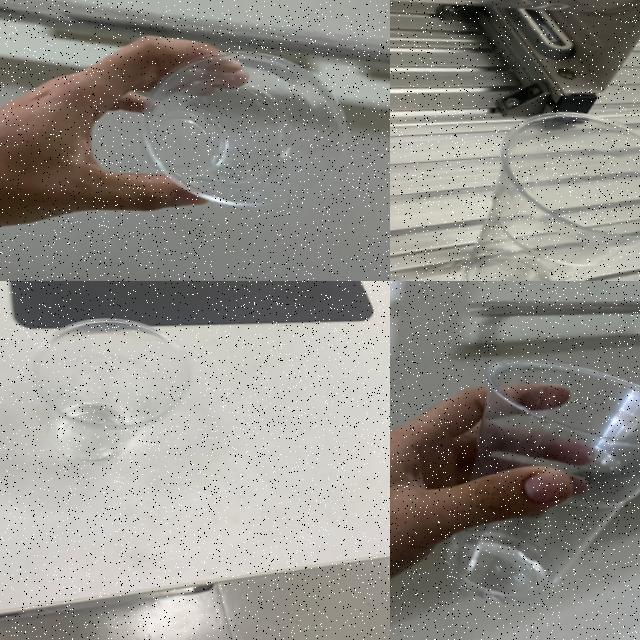glass: (413, 335, 640, 640), (118, 24, 378, 248), (0, 290, 222, 502), (419, 78, 640, 281)
